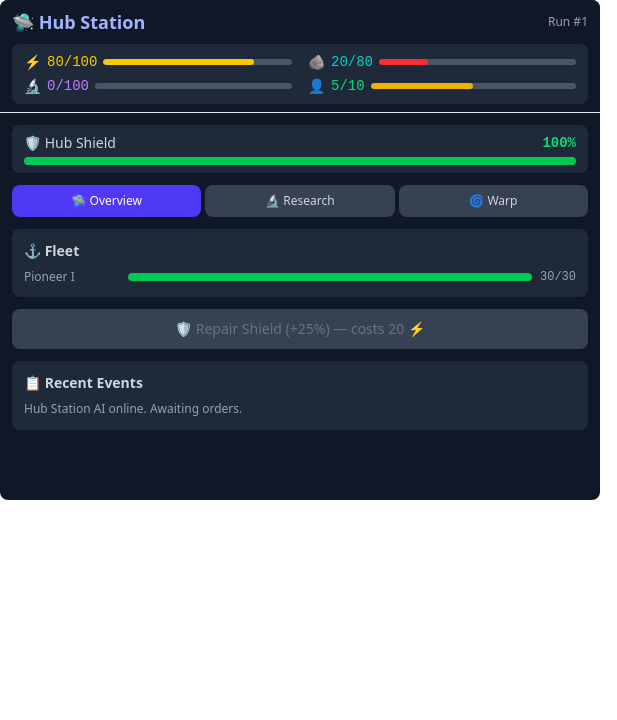
Test: HubStation › can warp to a region
Click the button "🌀 Warp": (493, 201) [399, 185, 588, 217]
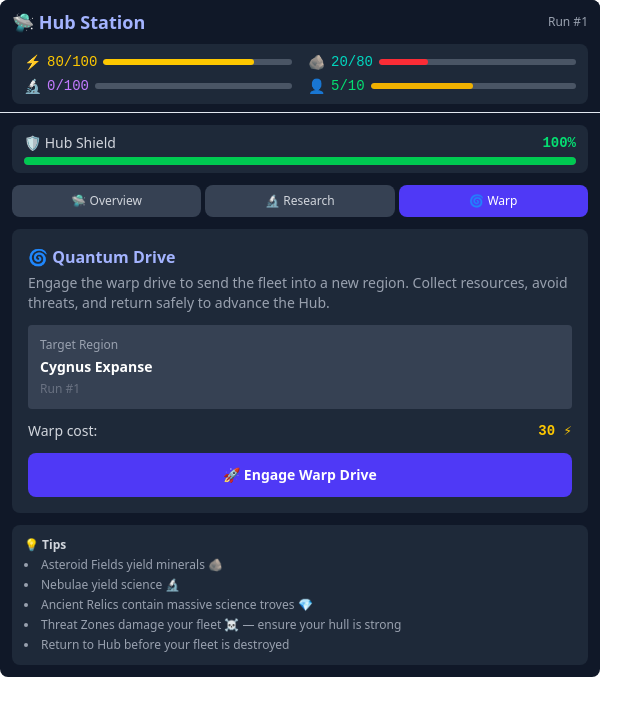
Click the button "🚀 Engage Warp Drive": (300, 475) [28, 453, 572, 497]
(page scrolled)
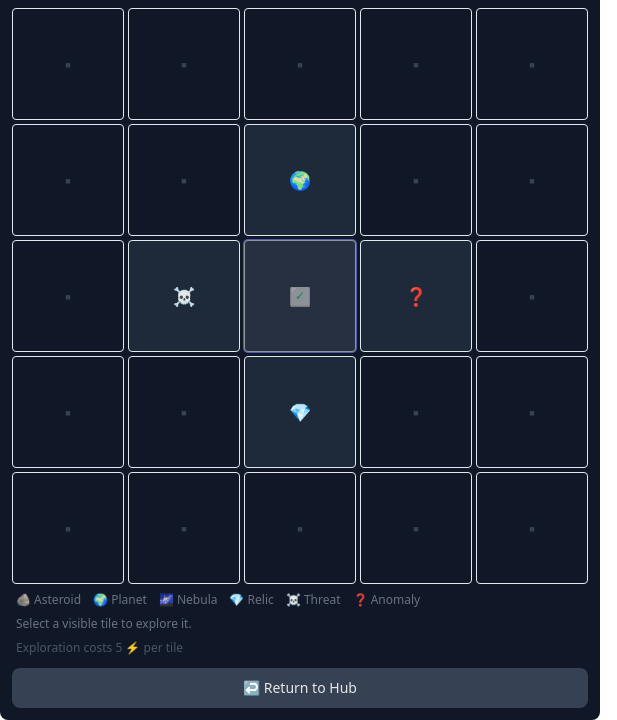
Check: the button "↩ Return to Hub" is shown, box [12, 668, 588, 708]
